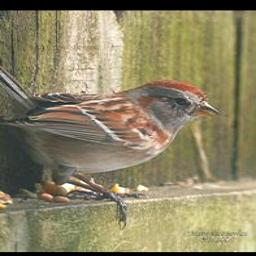Sparrow: (0, 42, 221, 229)
